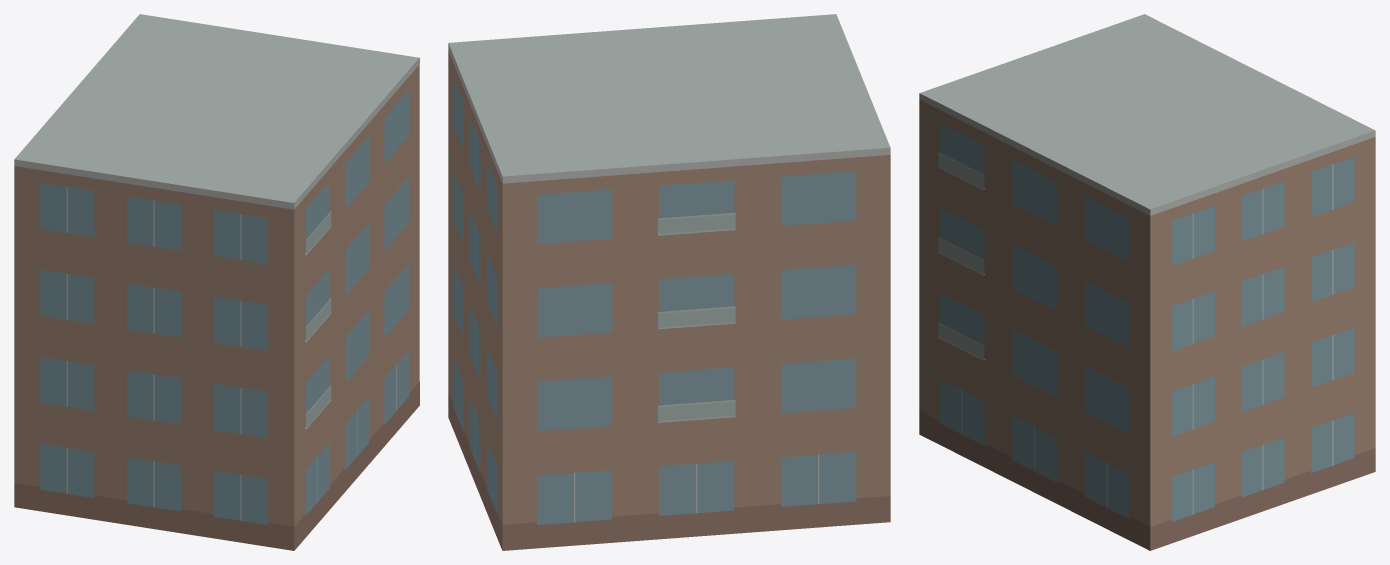
Rendered from survey-upis-32719272.glb.
The picture shows the model from 3 angles, left to right: view 1: azimuth 30°, elevation 25°; view 2: azimuth 150°, elevation 25°; view 3: azimuth 270°, elevation 25°; orthographic projection. The views are drawn at different scales.
Parts seen in each view (by area): view 1: survey-upis-32719272.tmp; view 2: survey-upis-32719272.tmp; view 3: survey-upis-32719272.tmp.
Part boxes in pixels (x1,y1,x2,y2): survey-upis-32719272.tmp: (14, 14, 419, 550); survey-upis-32719272.tmp: (448, 14, 890, 550); survey-upis-32719272.tmp: (919, 14, 1375, 550).
Size of the model in its own units: 15.85 by 12.9 by 15.63.
